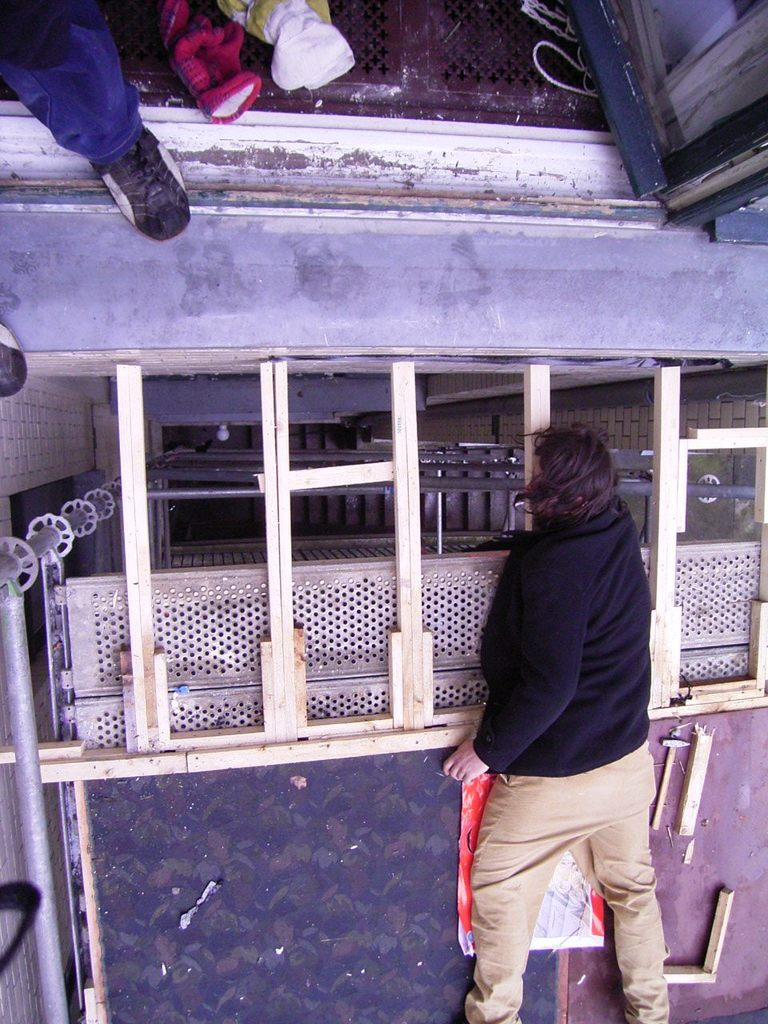Footwear: (73, 118, 177, 216)
